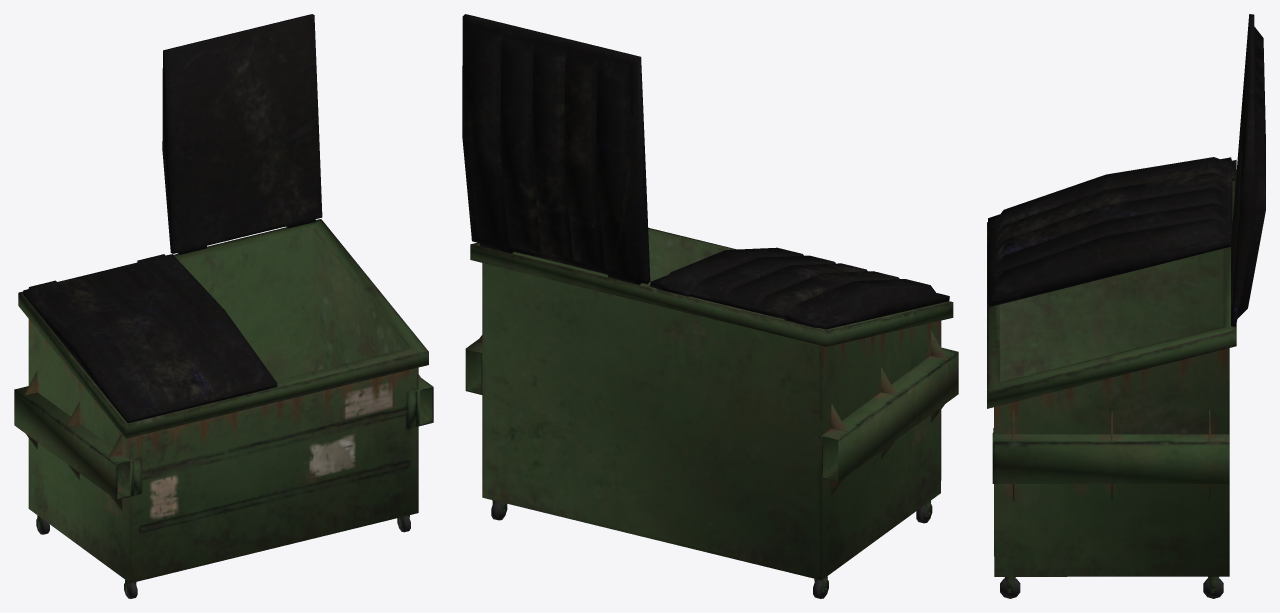
3 renders of one model, left to right at view 1: azimuth 30°, elevation 25°; view 2: azimuth 150°, elevation 25°; view 3: azimuth 270°, elevation 25°, orthographic. The views are drawn at different scales.
Parts seen in each view (by area): view 1: Garbage, Door_A, Door_B; view 2: Garbage, Door_A, Door_B; view 3: Garbage, Door_B, Door_A.
Boxes of the visible parts, box(x1,y1,x2,y2) form: Garbage: box(14, 219, 433, 598); Door_A: box(162, 14, 322, 254); Door_B: box(23, 254, 277, 423); Garbage: box(465, 228, 958, 598); Door_A: box(462, 14, 650, 284); Door_B: box(650, 247, 949, 329); Garbage: box(987, 160, 1236, 598); Door_B: box(988, 157, 1235, 306); Door_A: box(1231, 14, 1265, 326).
Bounding box in the file's own units: 2.12 × 2.8 × 1.4.
Materials: 1 (1 with a texture image).
